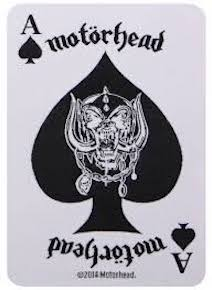AceOfSpades: (4, 1, 211, 288)
